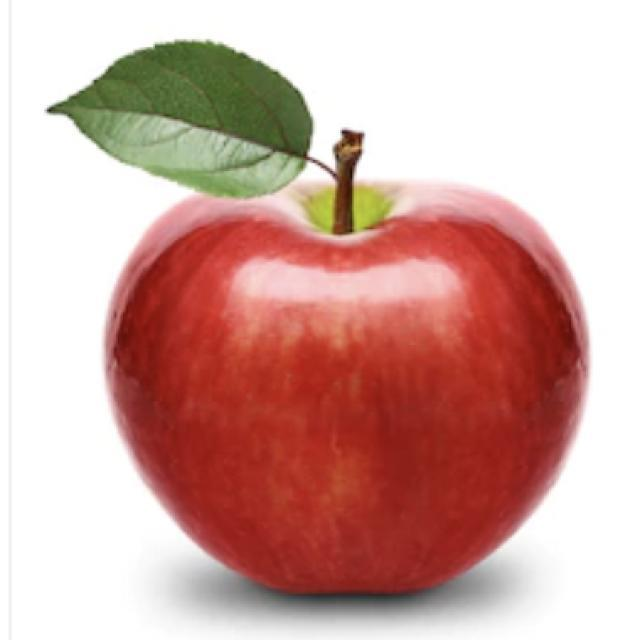Fresh Apple: (117, 184, 565, 564)
